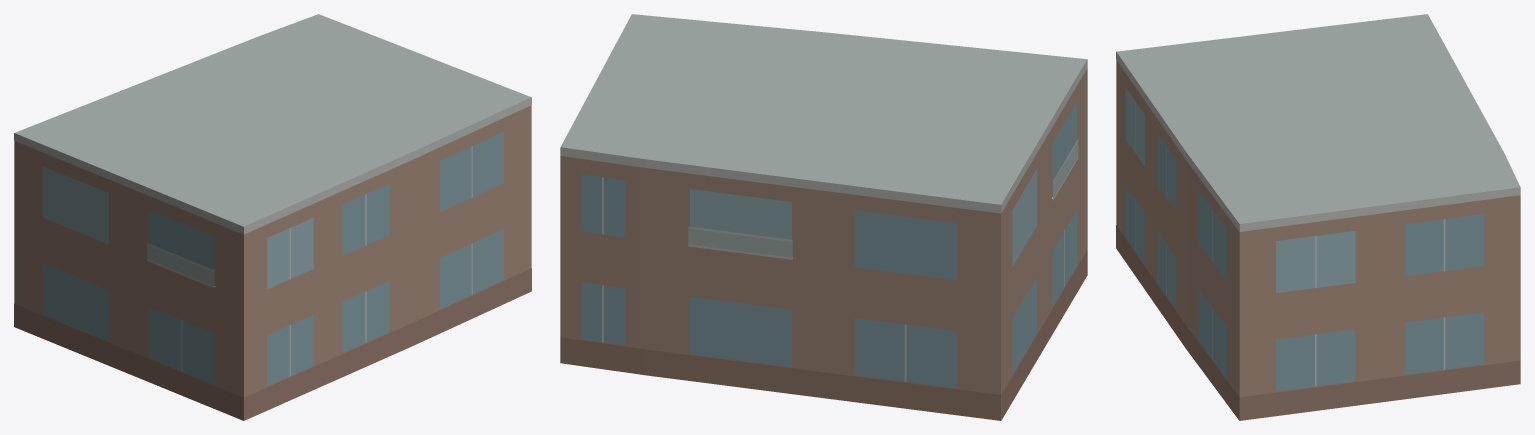
Rendered from survey-upis-33038732.glb.
The picture shows the model from 3 angles, left to right: view 1: azimuth 30°, elevation 25°; view 2: azimuth 150°, elevation 25°; view 3: azimuth 270°, elevation 25°; orthographic projection. The views are drawn at different scales.
Parts seen in each view (by area): view 1: survey-upis-33038732.tmp; view 2: survey-upis-33038732.tmp; view 3: survey-upis-33038732.tmp.
Boxes of the visible parts, x1,y1,x2,y2 form: survey-upis-33038732.tmp: (14, 14, 531, 420); survey-upis-33038732.tmp: (560, 14, 1087, 420); survey-upis-33038732.tmp: (1116, 14, 1520, 420).
Size of the model in its own units: 13.98 by 6.1 by 11.37.
